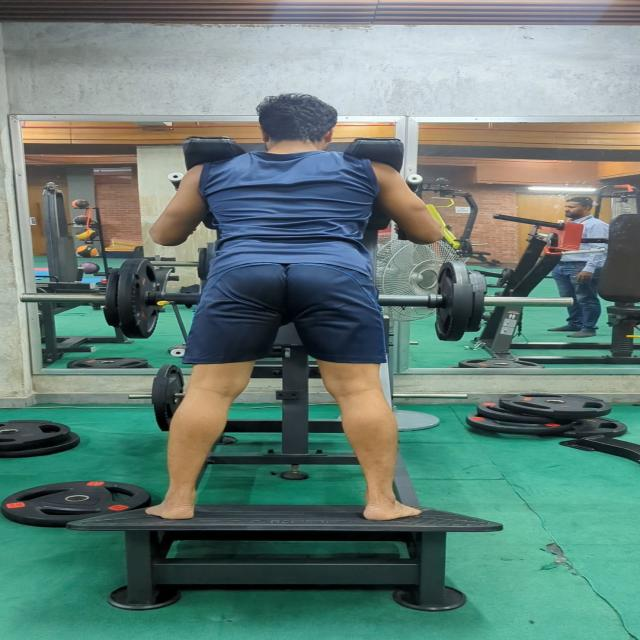Normal_SquatsWithBarbell: (105, 81, 470, 549)
